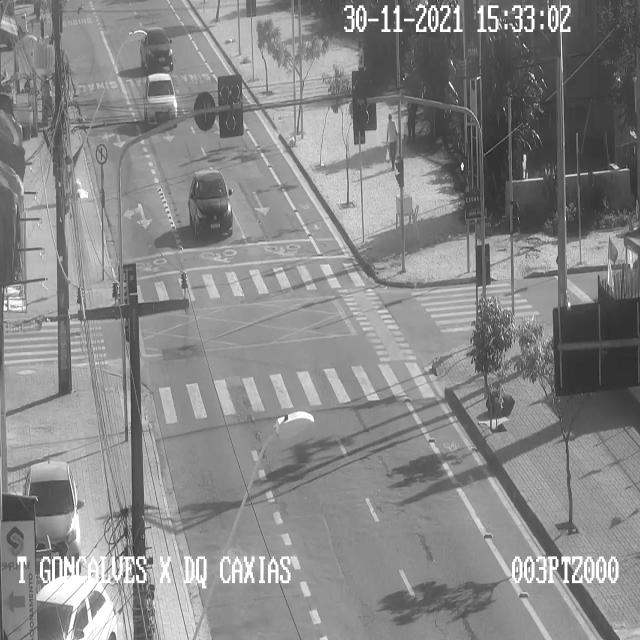Car: (21, 456, 83, 564), (36, 578, 116, 639), (188, 169, 234, 236), (145, 73, 177, 121), (140, 27, 173, 70)
